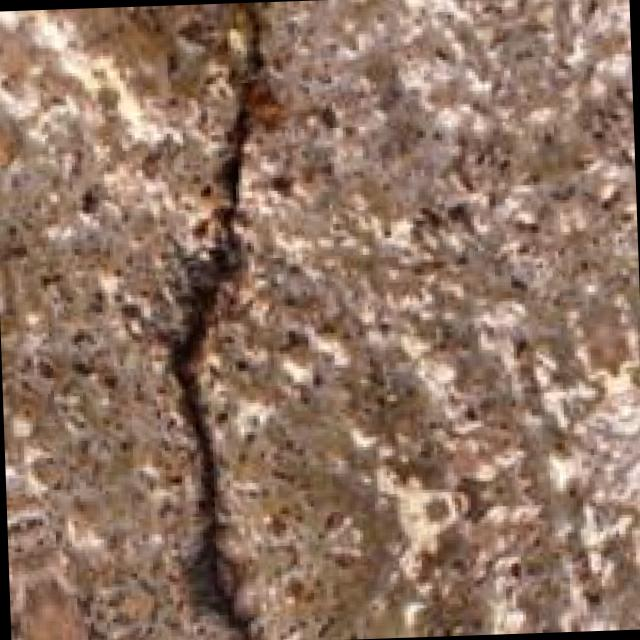crack: (158, 1, 308, 640)
